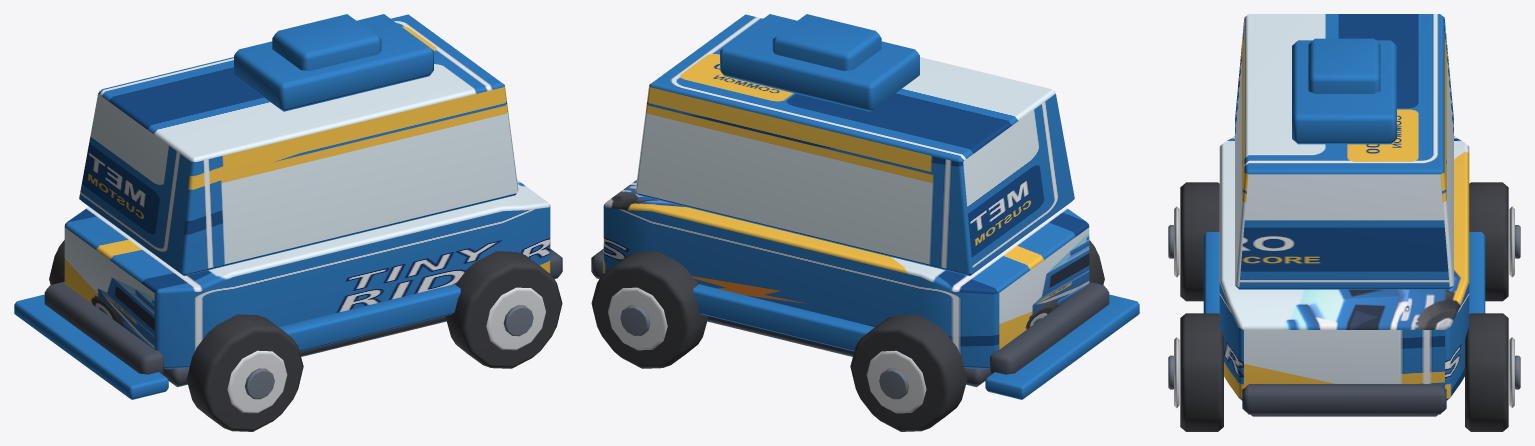
The picture shows the model from 3 angles, left to right: view 1: azimuth 30°, elevation 25°; view 2: azimuth 150°, elevation 25°; view 3: azimuth 270°, elevation 25°; orthographic projection. The views are drawn at different scales.
Visible parts, largest first — view 1: CC-04_cabin, CC-04_connected_shell, custom equipment, Tire, Tire.002, custom side guard, custom chin, roof sign, front bumper, Rim, Rim.002, underbody (+2 smaller); view 2: CC-04_cabin, CC-04_connected_shell, custom equipment, Tire.001, Tire.003, custom side guard.001, custom chin, roof sign, front bumper, Rim.001, Rim.003, underbody (+2 smaller); view 3: CC-04_cabin, CC-04_connected_shell, custom equipment, rear bumper, Tire.002, Tire.003, roof sign, Tire, Tire.001, custom side guard, custom side guard.001, underbody (+4 smaller).
Part boxes in pixels (x1,y1,x2,y2): CC-04_cabin: (79, 14, 518, 275); CC-04_connected_shell: (64, 180, 550, 368); custom equipment: (234, 14, 433, 111); Tire: (186, 314, 303, 431); Tire.002: (445, 251, 562, 368); custom side guard: (279, 284, 460, 351); custom chin: (14, 294, 168, 399); roof sign: (272, 14, 381, 70); front bumper: (44, 281, 164, 374); Rim: (227, 350, 287, 413); Rim.002: (486, 287, 545, 350); underbody: (162, 316, 446, 386); CC-04_cabin: (635, 14, 1074, 275); CC-04_connected_shell: (603, 180, 1089, 368); custom equipment: (720, 14, 919, 111); Tire.001: (850, 314, 967, 431); Tire.003: (591, 251, 708, 368); custom side guard.001: (693, 284, 874, 351); custom chin: (985, 294, 1139, 399); roof sign: (772, 14, 881, 70); front bumper: (989, 281, 1109, 374); Rim.001: (866, 350, 926, 413); Rim.003: (608, 287, 667, 350); underbody: (707, 316, 991, 386); CC-04_cabin: (1235, 14, 1453, 289); CC-04_connected_shell: (1219, 136, 1469, 400); custom equipment: (1292, 40, 1396, 144); rear bumper: (1242, 384, 1446, 414); Tire.002: (1180, 313, 1223, 431); Tire.003: (1465, 313, 1508, 431); roof sign: (1308, 38, 1380, 93); Tire: (1180, 182, 1219, 301); Tire.001: (1469, 182, 1508, 301); custom side guard: (1203, 231, 1219, 313); custom side guard.001: (1469, 231, 1485, 313); underbody: (1251, 414, 1437, 416).
Bounding box in the file's own units: 315 × 208 × 209.
